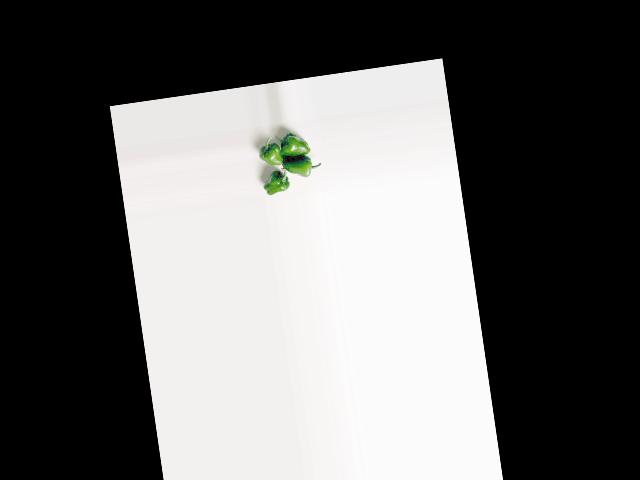bell_pepper: (257, 137, 281, 169)
